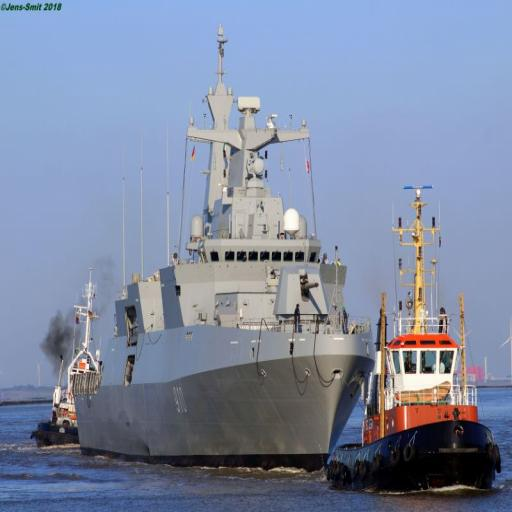Fragata: (72, 22, 382, 463)
